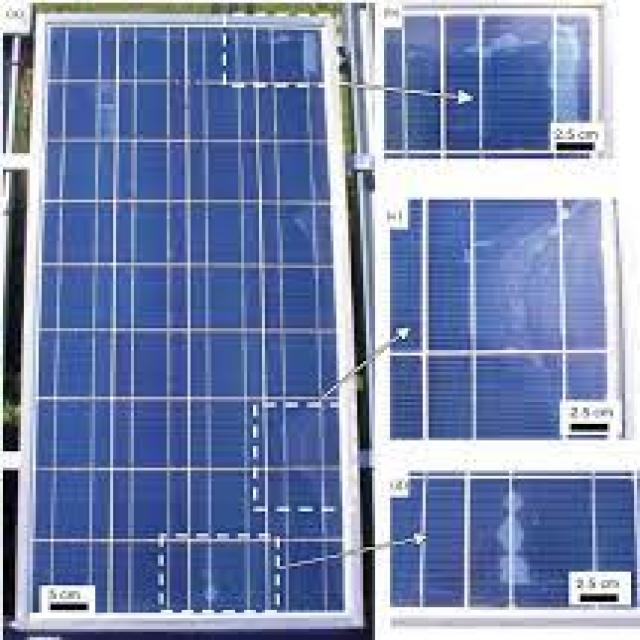faulty: (24, 24, 359, 632), (403, 200, 616, 463), (370, 6, 602, 162), (399, 488, 640, 620)
